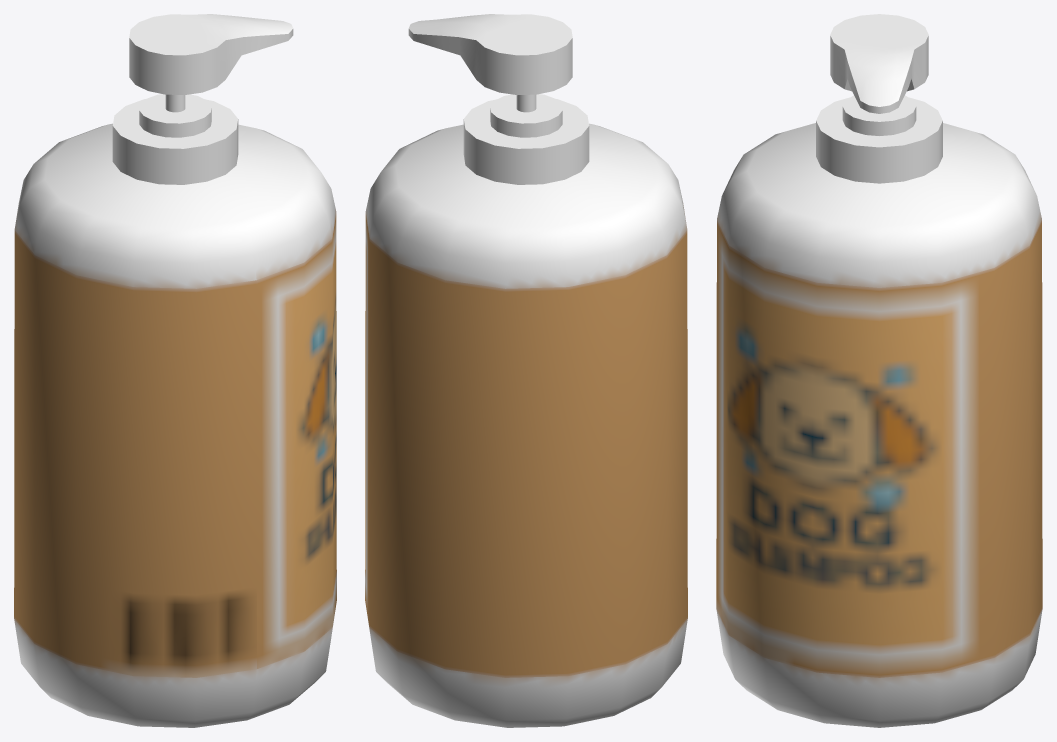
The model's file is dog_shampoo.fbx.
3 renders of one model, left to right at view 1: azimuth 30°, elevation 25°; view 2: azimuth 150°, elevation 25°; view 3: azimuth 270°, elevation 25°, orthographic.
Visible parts, largest first — view 1: dog_shampoo; view 2: dog_shampoo; view 3: dog_shampoo.
Part boxes in pixels (bbox=[...]): dog_shampoo: bbox=[14, 14, 336, 727]; dog_shampoo: bbox=[365, 14, 687, 727]; dog_shampoo: bbox=[716, 14, 1042, 727].
Size of the model in its own units: 18.66 by 40 by 18.66.
1 material, 1 textured.
